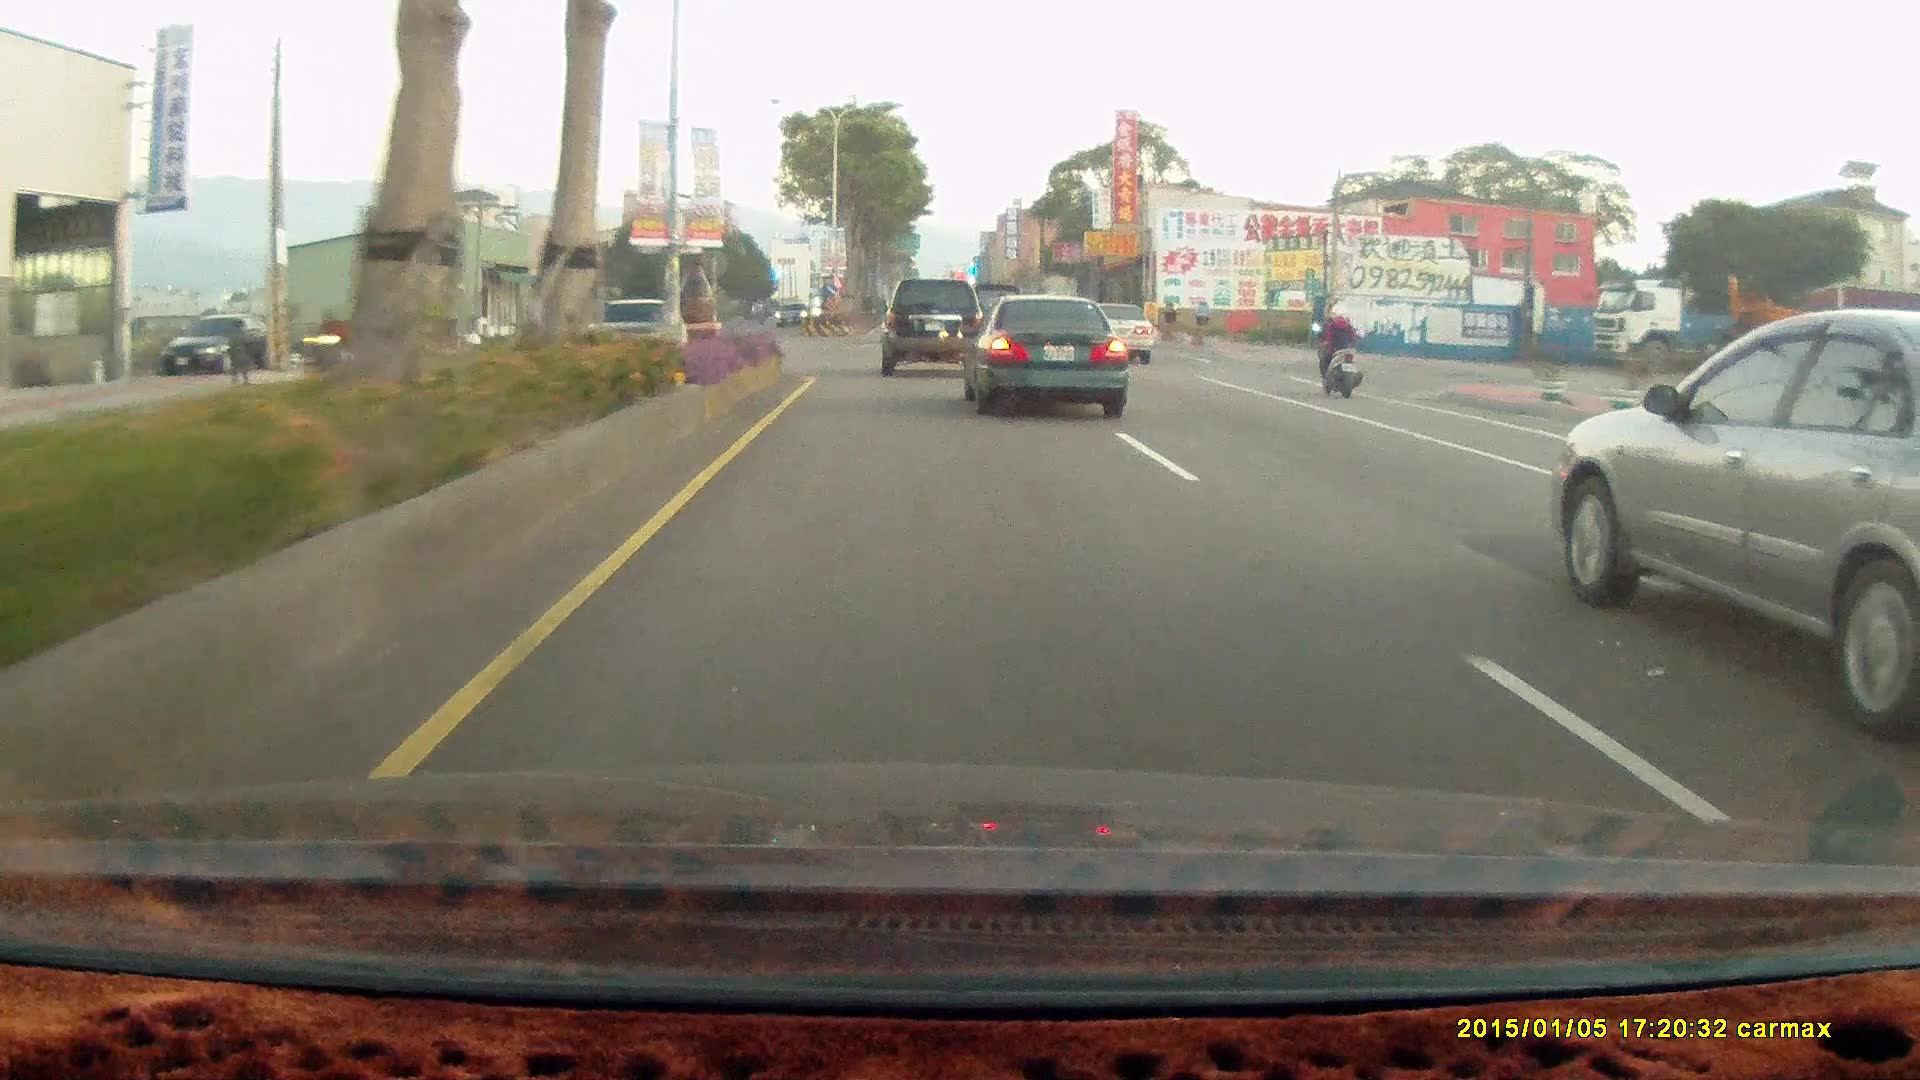pedestrian: (225, 316, 252, 385)
rider: (1305, 296, 1372, 406), (1309, 292, 1365, 389), (295, 304, 356, 393)
vehicle: (1547, 309, 1920, 744), (1590, 276, 1920, 373), (953, 289, 1122, 412), (968, 293, 1133, 414), (880, 274, 989, 374), (879, 277, 983, 377), (581, 294, 693, 370), (153, 309, 257, 374), (159, 313, 263, 374), (1074, 300, 1158, 367), (773, 301, 811, 327)
